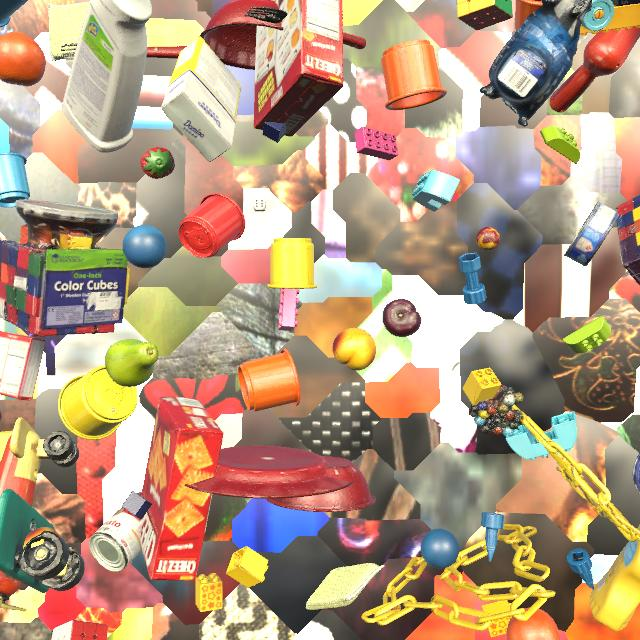ycb_002_master_chef_can: (633, 453, 640, 493)
ycb_003_cracker_box: (140, 396, 224, 581), (253, 0, 344, 137)
ycb_004_sugar_box: (161, 36, 241, 162)
ycb_005_tomato_soup_can: (89, 492, 144, 572)
ycb_006_mustard_bottle: (590, 525, 640, 632)
ycb_007_tuna_fish_can: (564, 201, 619, 266)
ycb_009_gelatin_box: (0, 331, 46, 400)
ycb_012_strawberry: (140, 147, 175, 179)
ycb_015_peach: (332, 328, 376, 370), (23, 527, 63, 549)
ycb_016_pear: (105, 339, 159, 387)
ycb_017_orange: (0, 32, 46, 86), (507, 608, 560, 640)
ycb_018_plum: (382, 299, 421, 337)
